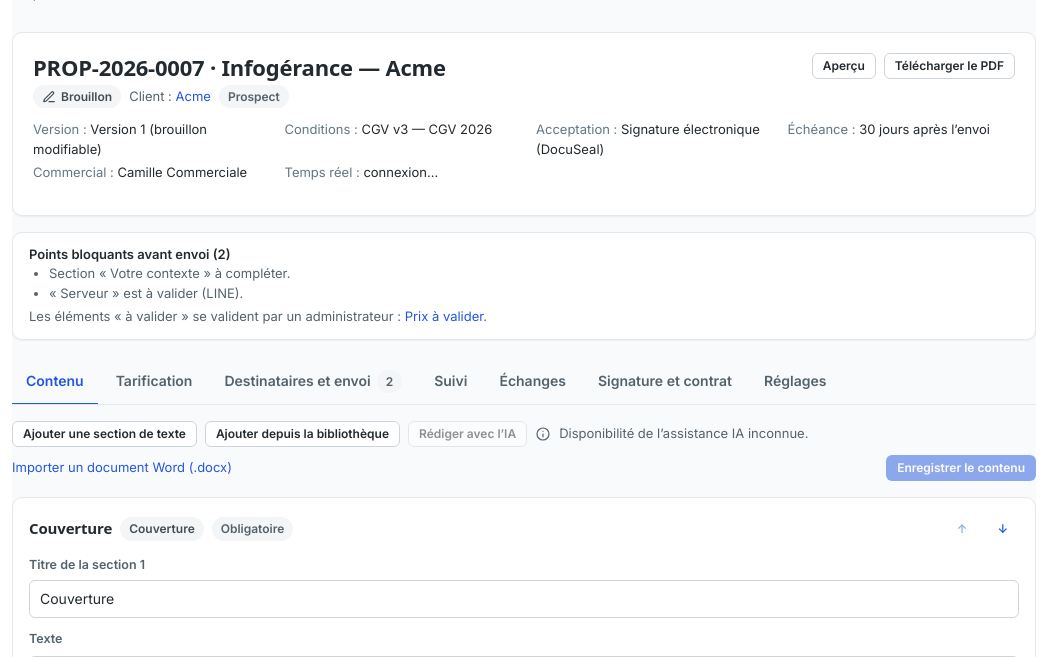
erreurs de configuration renvoyées par le moteur
Click the tab "Tarification": click(154, 382) 102,360 -> 206,405
(page scrolled)
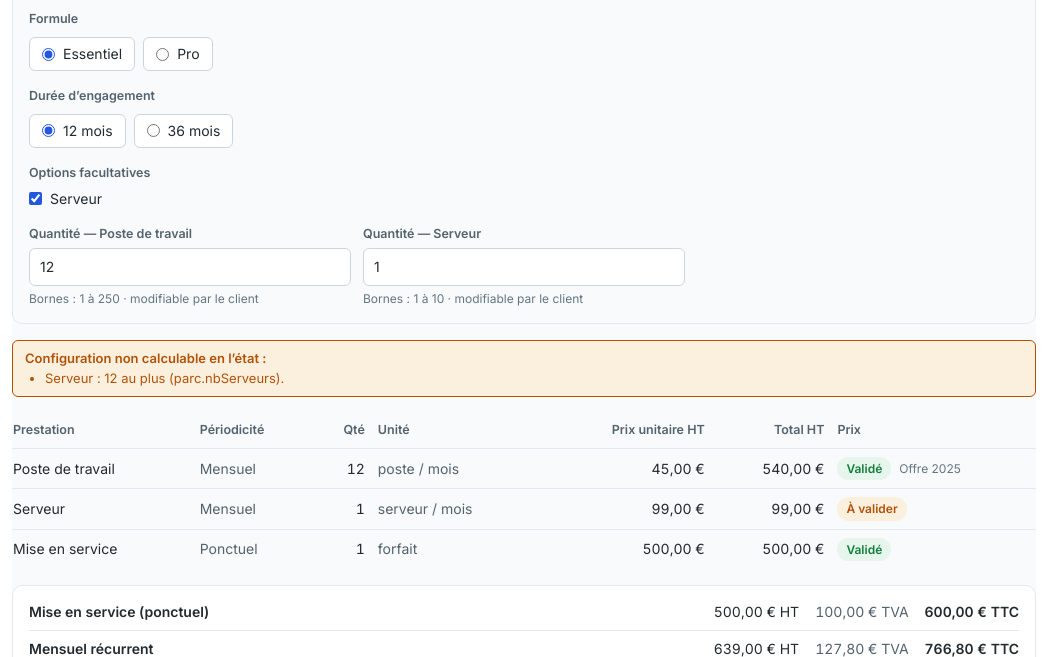
Expected: the message shows "Serveur : 12 au plus", 45,370 -> 284,386
